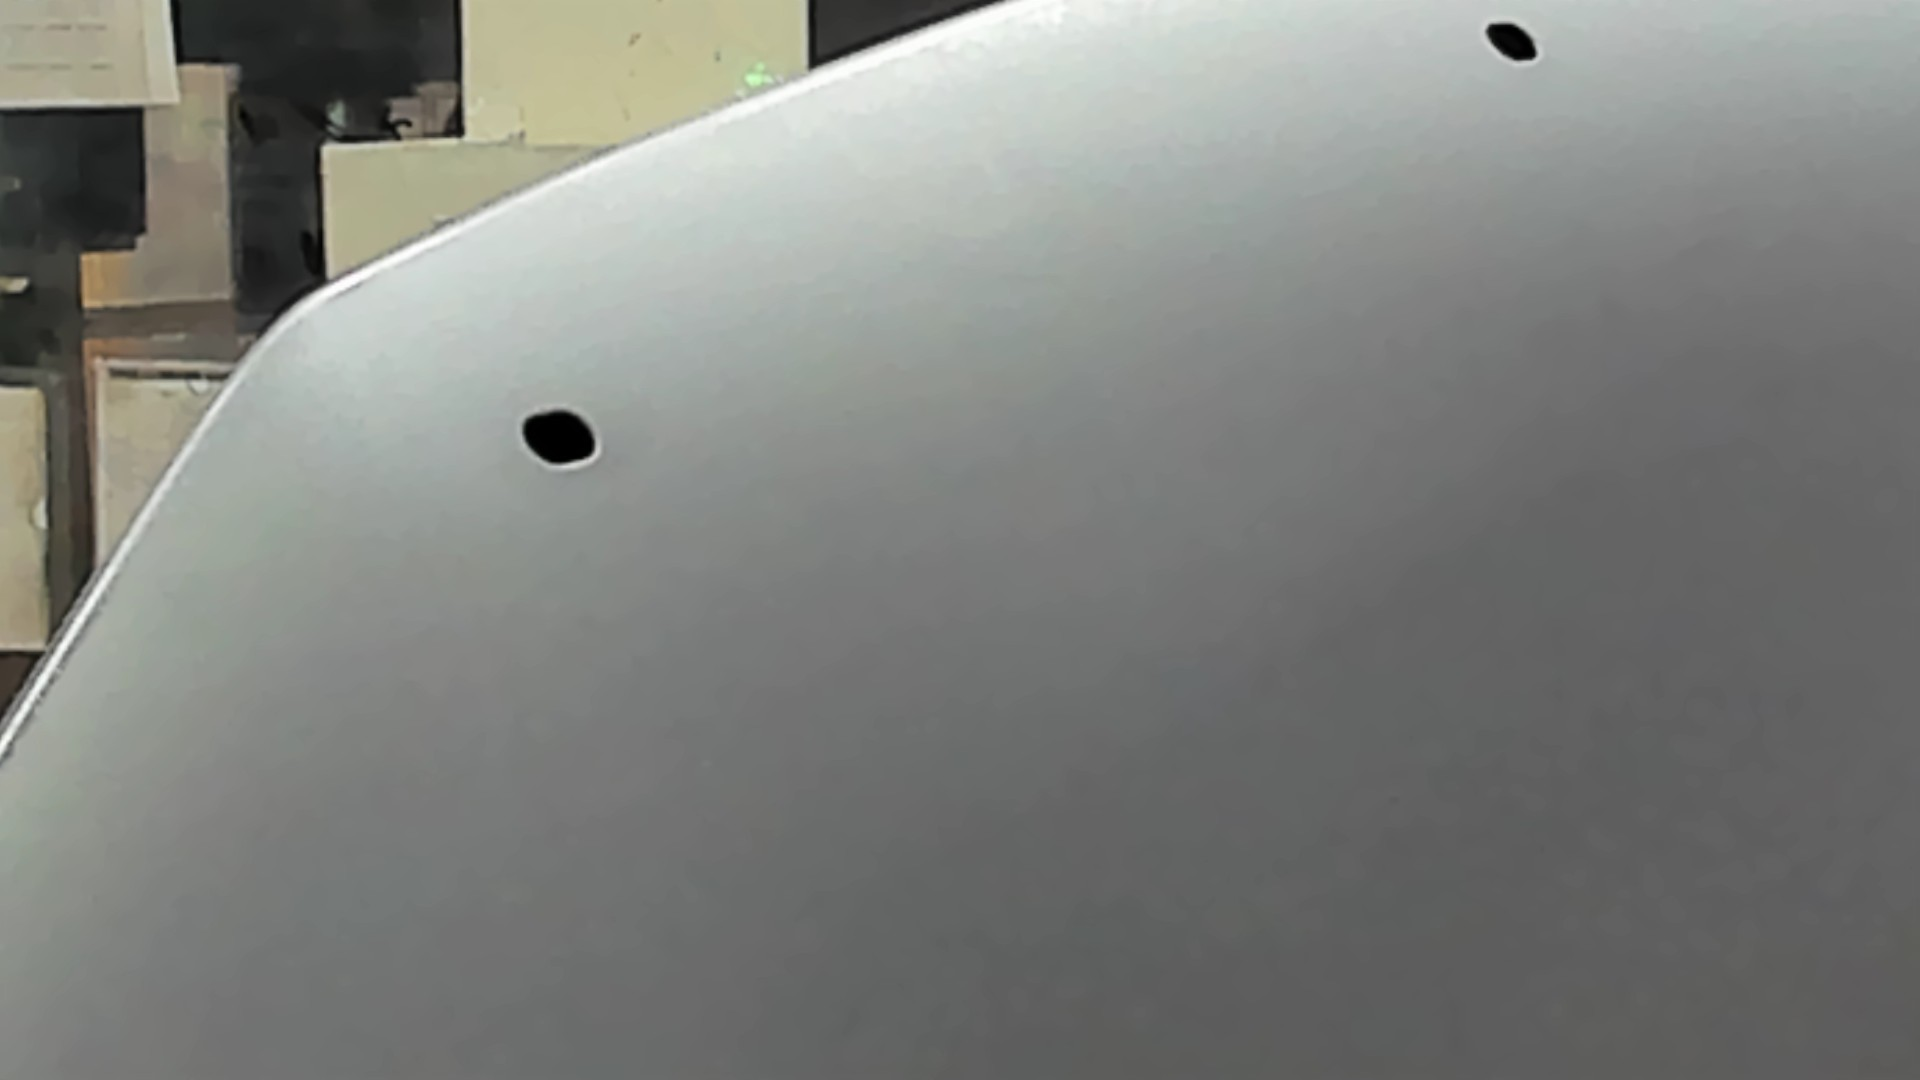chico: (514, 400, 604, 473), (1477, 18, 1552, 69)
